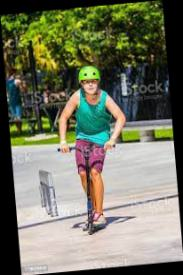helmet: (50, 60, 137, 238)
